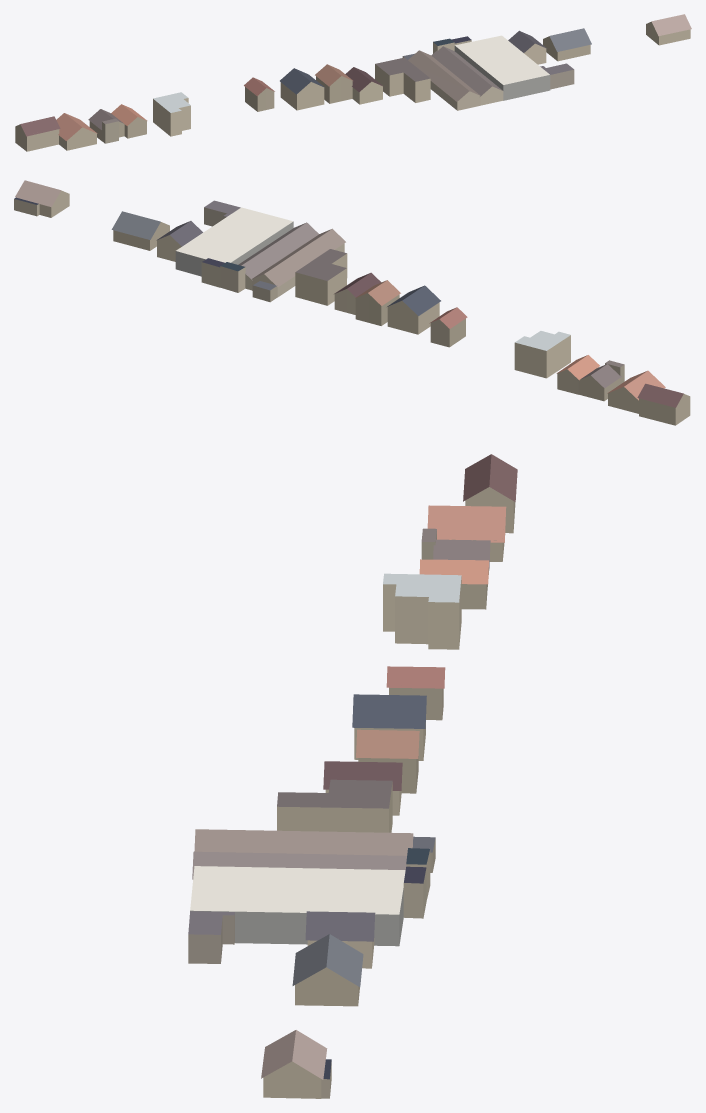
3 renders of one model, top to bottom at view 1: azimuth 30°, elevation 25°; view 2: azimuth 150°, elevation 25°; view 3: azimuth 270°, elevation 25°, orthographic. The views are drawn at different scales.
Visible parts, largest first — view 1: tuile; view 2: tuile; view 3: tuile.
Boxes of the visible parts, x1=… form: tuile: x1=15, y1=14, x2=691, y2=151; tuile: x1=14, y1=180, x2=690, y2=425; tuile: x1=188, y1=454, x2=517, y2=1098.
Size of the model in its own units: 231 by 10.41 by 53.5.
